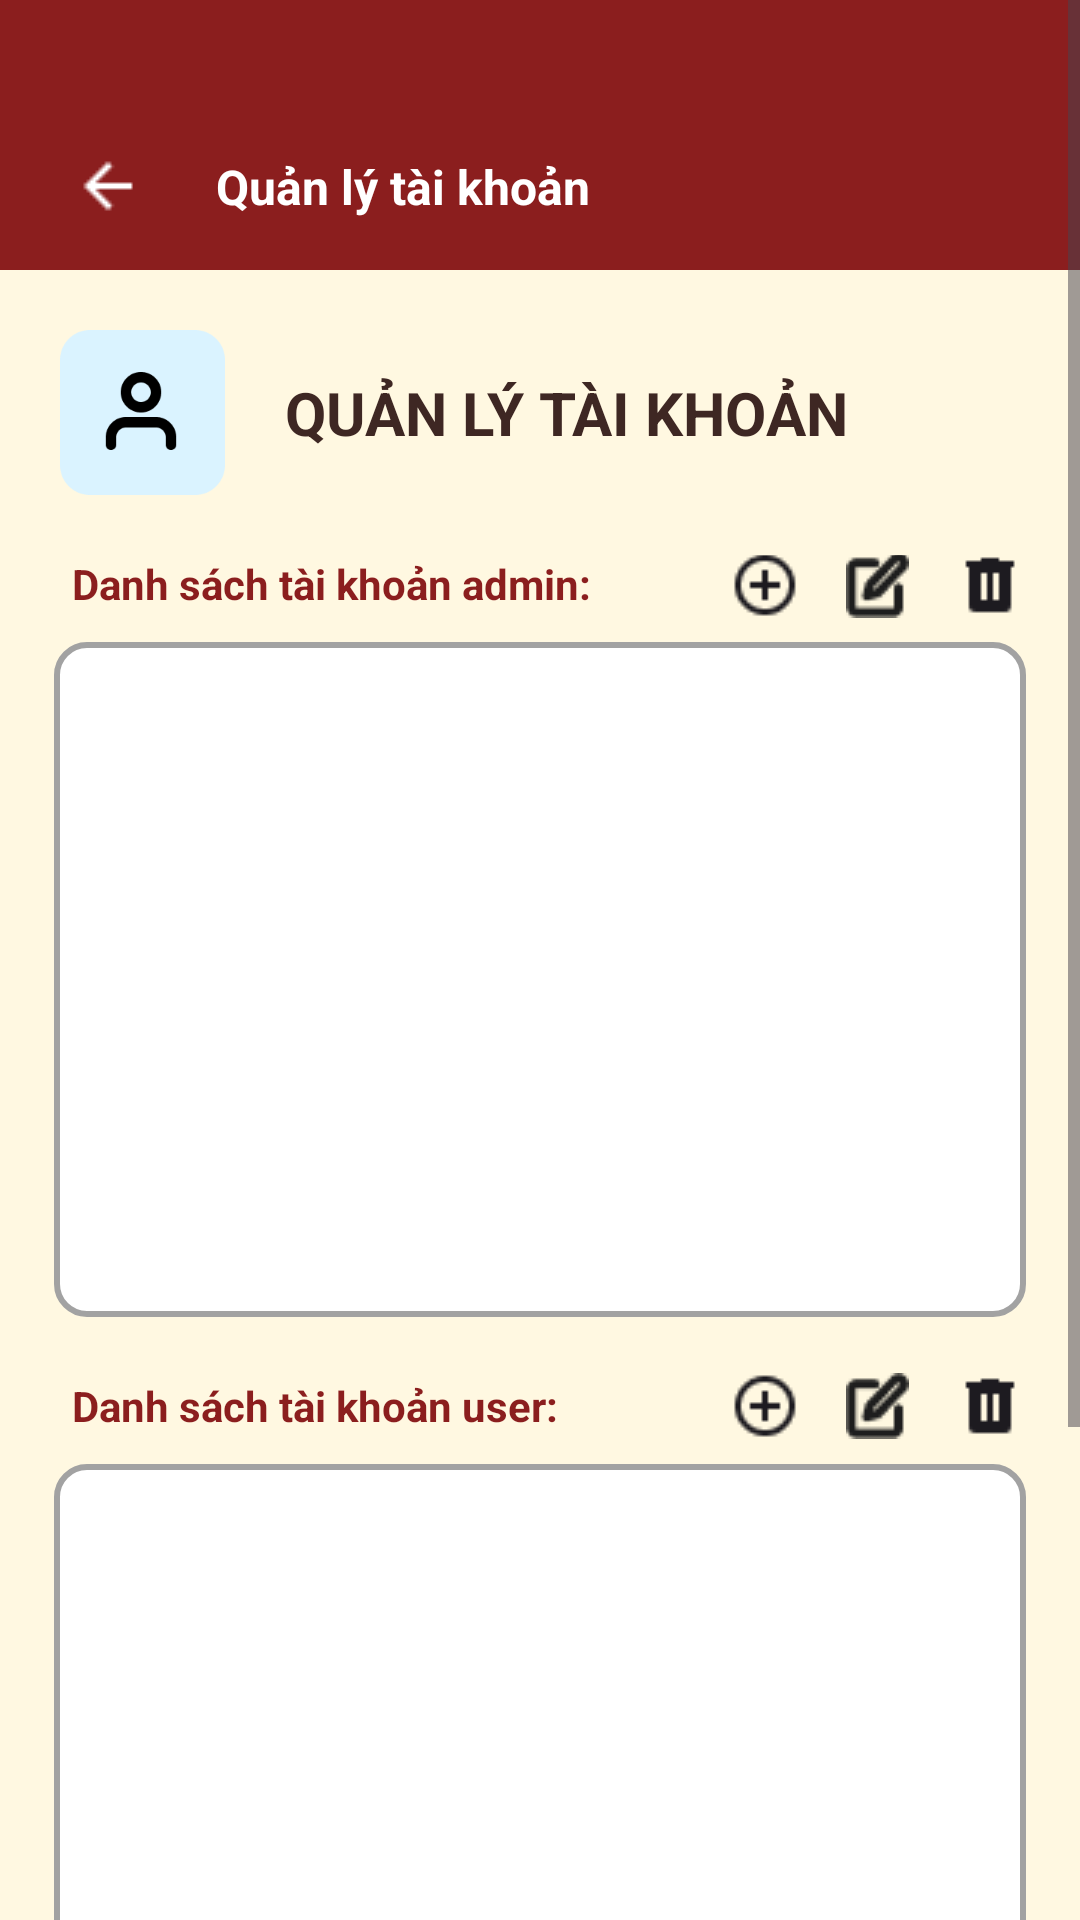

Locate icon controls on the screen. Image size 1080 x 1920, boxes as (x1, y1, x2, y2).
add: (734, 555, 796, 616), (734, 1375, 796, 1437)
back: (83, 161, 133, 211)
delete: (965, 557, 1015, 613), (965, 1378, 1015, 1434)
edit: (846, 555, 909, 618), (846, 1373, 909, 1439)
